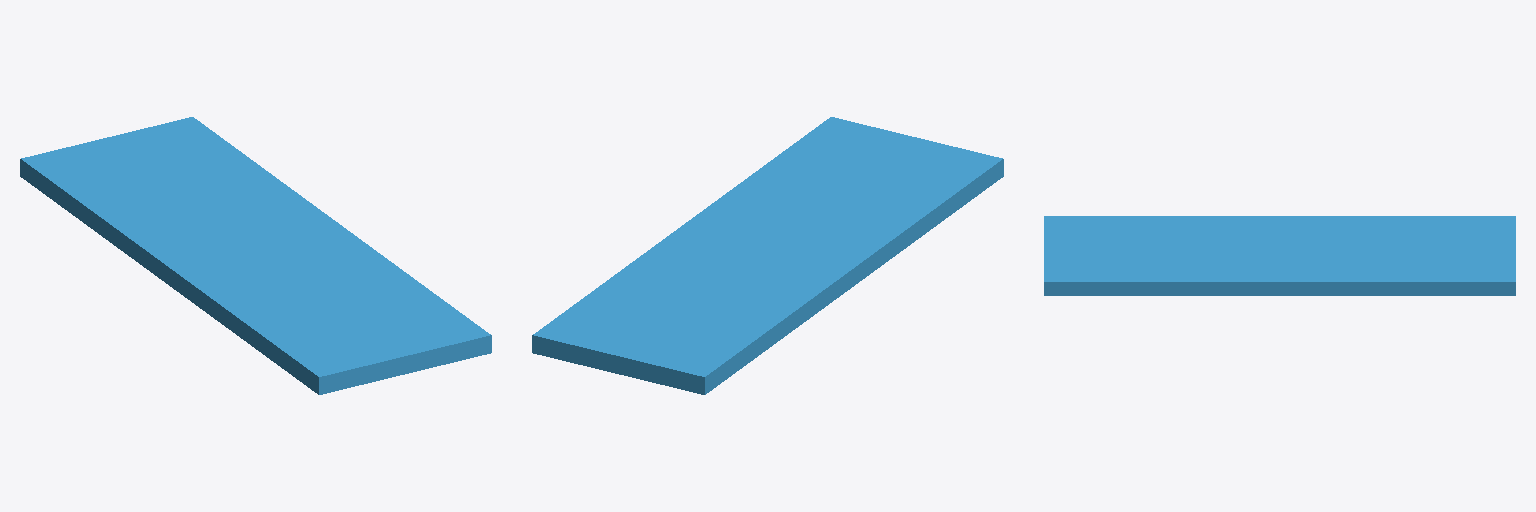
robot.urdf — table_surface:
<?xml version="1.0"?>
<robot name="table_surface">
  <link name="world" />
  <link name="table">
    <visual>
      <geometry>
	<box size="0.5 1.5 0.05" />
      </geometry>
    </visual>
    <collision>
      <geometry>
	<box size="0.5 1.5 0.05" />
      </geometry>
    </collision>
    <inertial>
      <mass value="100" />
      <inertia ixx="100" ixy="0" ixz="0" iyy="100" iyz="0" izz="100" />
    </inertial>
  </link>
  <joint name="fixed" type="fixed">
    <origin rpy="0 0 0" xyz="0.5 0 0.25" />
    <parent link="world" />
    <child link="table" />
  </joint>
</robot>

--- Facts derived from the render (not from the file) ---
The picture shows the robot from 3 angles, left to right: view 1: azimuth 30°, elevation 25°; view 2: azimuth 150°, elevation 25°; view 3: azimuth 270°, elevation 25°; orthographic projection.
Robot: table_surface — 2 links, 1 joints (1 fixed); root link world; default pose: every joint at zero.
Links seen in each view (by area): view 1: table; view 2: table; view 3: table.
Link boxes in pixels (x1=…): table: x1=20, y1=117, x2=491, y2=394; table: x1=532, y1=117, x2=1003, y2=394; table: x1=1044, y1=216, x2=1515, y2=295.
Bounding box of the posed robot: 0.5 × 1.5 × 0.05 m (x, y, z).
Geometry: primitives only (box / cylinder / sphere), no mesh files.